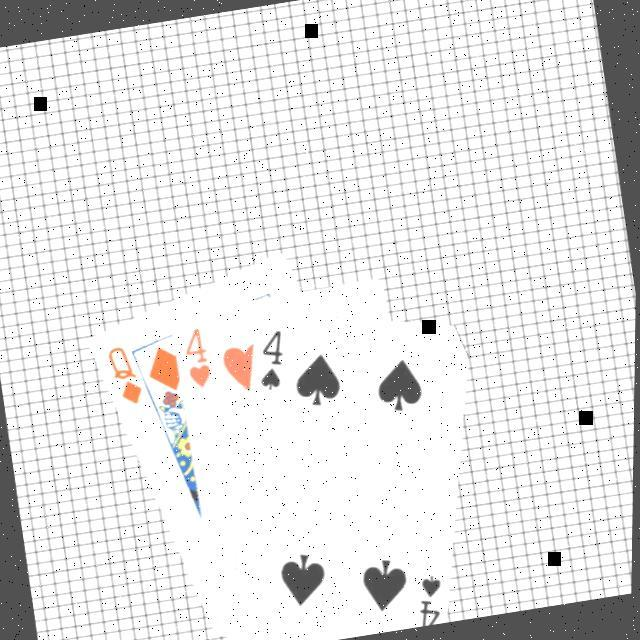4H: (176, 321, 215, 391)
4S: (248, 324, 292, 392), (408, 568, 450, 628)
QD: (100, 338, 146, 409)
